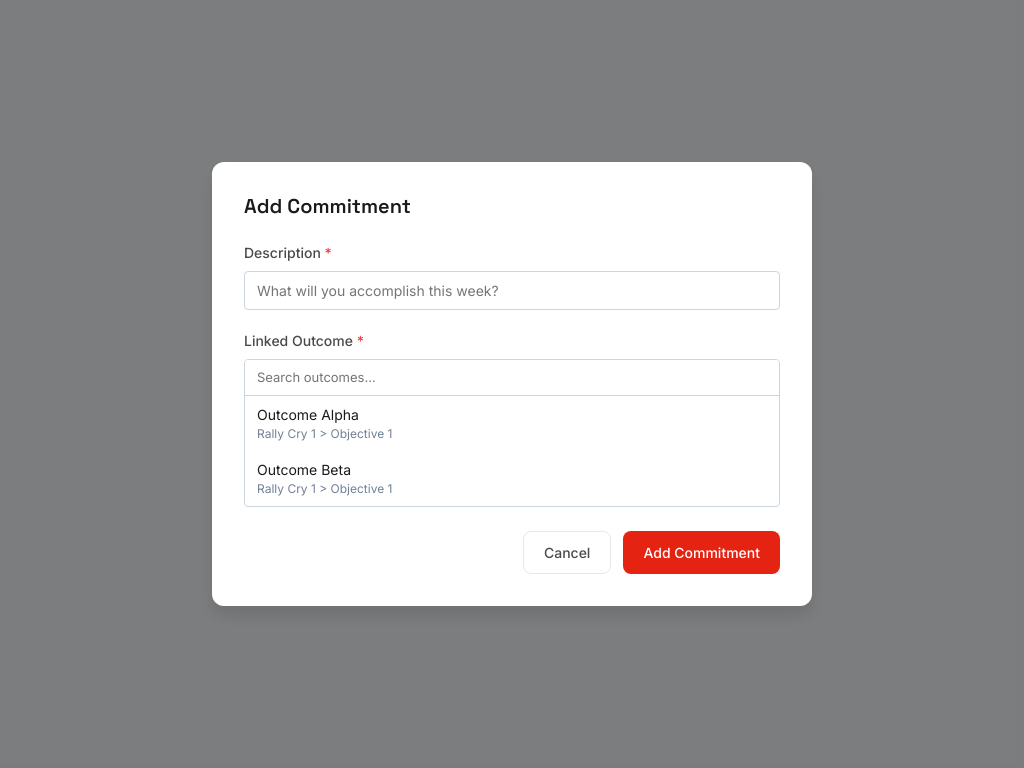
Test: CommitmentForm › filters local outcomes by search text
In the field with placeholder "Search outcomes...": (512, 378) x1=245 y1=360 x2=779 y2=396, type "beta"
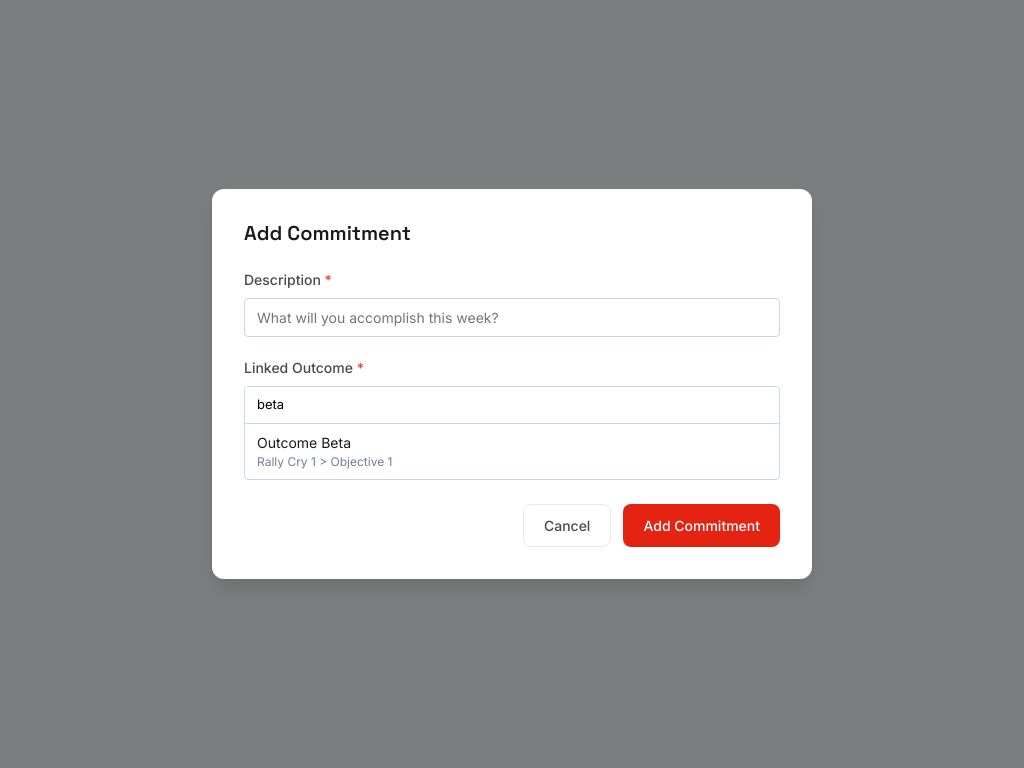
expect the text "Outcome Beta" is shown: met, box x1=257 y1=434 x2=351 y2=451
expect the text "Outcome Alpha" is gone: met
